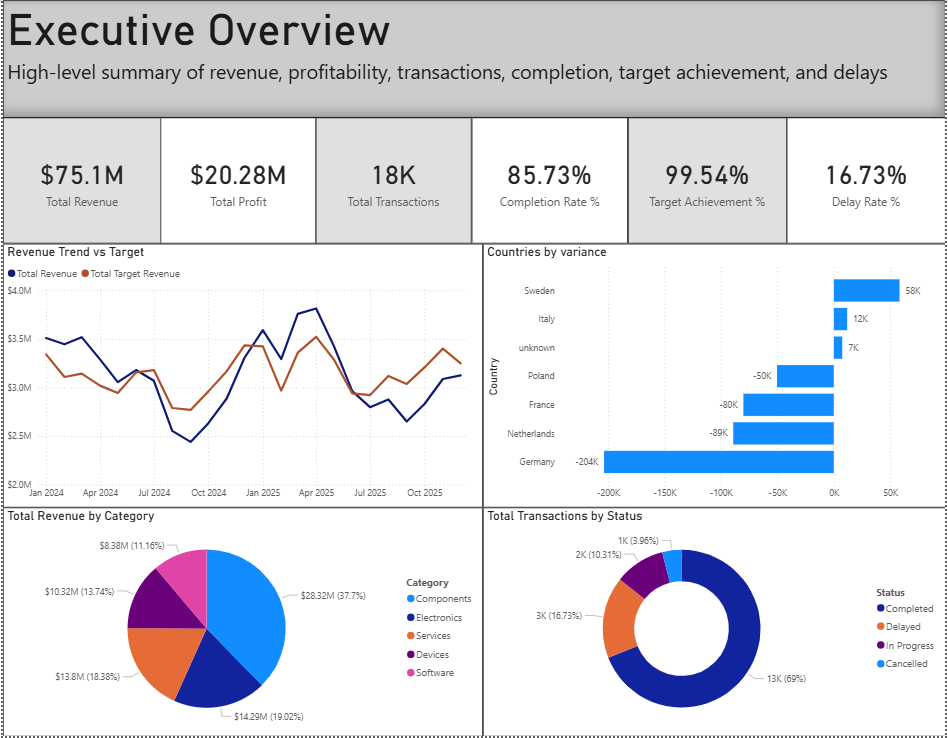

Layout of this report page (visuals, bound fields, positions):
{"tool":"powerbi","page":{"name":"Executive Overview","canvas":[1280,1000],"ordinal":0},"visuals":[{"type":"card","fields":{"Values":["Measures (2).Total Revenue"]},"box":[0,159.6,215.7,171.5],"z":0},{"type":"card","fields":{"Values":["Measures (2).Total Profit"]},"box":[214,159.6,212.3,171.5],"z":1000},{"type":"card","fields":{"Values":["Measures (2).Total Transactions"]},"box":[424.6,159.6,212.3,171.5],"z":2000},{"type":"card","fields":{"Values":["Measures (2).Completion Rate %"]},"box":[636.9,159.6,212.3,171.5],"z":3000},{"type":"card","fields":{"Values":["Measures (2).Target Achievement %"]},"box":[849.2,159.6,215.7,171.5],"z":4000},{"type":"card","fields":{"Values":["Measures (2).Delay Rate %"]},"box":[1064.9,159.6,215.7,171.5],"z":5000},{"type":"lineChart","title":"Revenue Trend vs Target","fields":{"Category":["Dim_Date.YearMonth"],"Y":["Measures (2).Total Revenue","Measures (2).Total Target Revenue"]},"box":[0,331.2,652.2,358.4],"z":6000},{"type":"clusteredBarChart","title":"Countries by variance","fields":{"Category":["Dim_Region.Country"],"Y":["Measures (2).Revenue Variance to Target"]},"box":[652.2,331.2,628.4,358.4],"z":7000},{"type":"pieChart","fields":{"Category":["Dim_Products.Category"],"Y":["Measures (2).Total Revenue"]},"box":[0,689.5,652.2,310.8],"z":8000},{"type":"donutChart","fields":{"Y":["Measures (2).Total Transactions"],"Category":["Fact_Operations.Status"]},"box":[652.2,689.5,628.4,310.8],"z":9000},{"type":"textbox","title":"Executive Overview","box":[0,0,1280.6,159.6],"z":10000}]}

Visuals, with their boxes in screenshot pixels (x1, y1, x2, y2), scaled from the page's 1280x1000 canvas onto the 948x738 screenshot:
card - Measures (2).Total Revenue: x1=0, y1=118, x2=160, y2=244
card - Measures (2).Total Profit: x1=158, y1=118, x2=316, y2=244
card - Measures (2).Total Transactions: x1=314, y1=118, x2=472, y2=244
card - Measures (2).Completion Rate %: x1=472, y1=118, x2=629, y2=244
card - Measures (2).Target Achievement %: x1=629, y1=118, x2=789, y2=244
card - Measures (2).Delay Rate %: x1=789, y1=118, x2=947, y2=244
"Revenue Trend vs Target" lineChart: x1=0, y1=244, x2=483, y2=509
"Countries by variance" clusteredBarChart: x1=483, y1=244, x2=947, y2=509
pieChart - Dim_Products.Category x Measures (2).Total Revenue: x1=0, y1=509, x2=483, y2=737
donutChart - Measures (2).Total Transactions x Fact_Operations.Status: x1=483, y1=509, x2=947, y2=737
"Executive Overview" textbox: x1=0, y1=0, x2=947, y2=118
